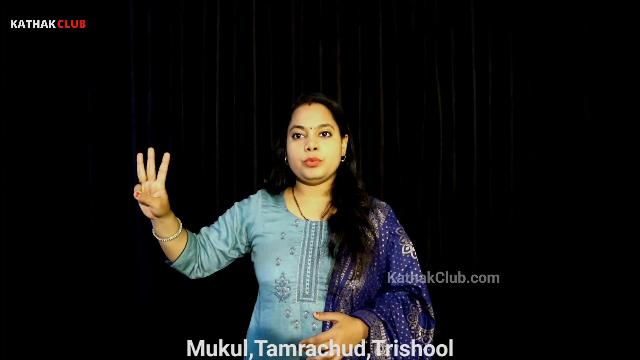trishool: (124, 138, 196, 241)
